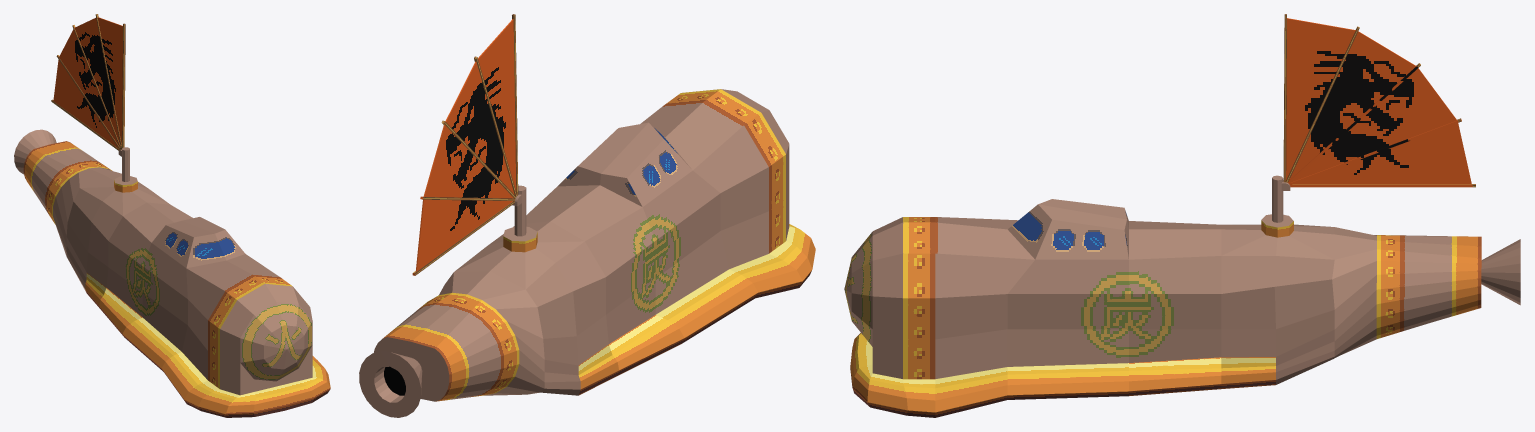
The model's file is steam_drone.glb.
3 views of the same model, side by side, from view 1: azimuth 30°, elevation 25°; view 2: azimuth 150°, elevation 25°; view 3: azimuth 270°, elevation 25° (orthographic). The views are drawn at different scales.
Visible parts, largest first — view 1: Sphere, Sphere.001; view 2: Sphere, Sphere.001; view 3: Sphere, Sphere.001.
Part boxes in pixels (x1,y1,x2,y2): Sphere: [14, 129, 330, 417]; Sphere.001: [51, 14, 125, 150]; Sphere: [359, 89, 815, 417]; Sphere.001: [412, 14, 518, 275]; Sphere: [844, 175, 1520, 417]; Sphere.001: [1283, 14, 1475, 187].
Size of the model in its own units: 2.83 by 5.27 by 8.95.
1 material, 1 textured.
